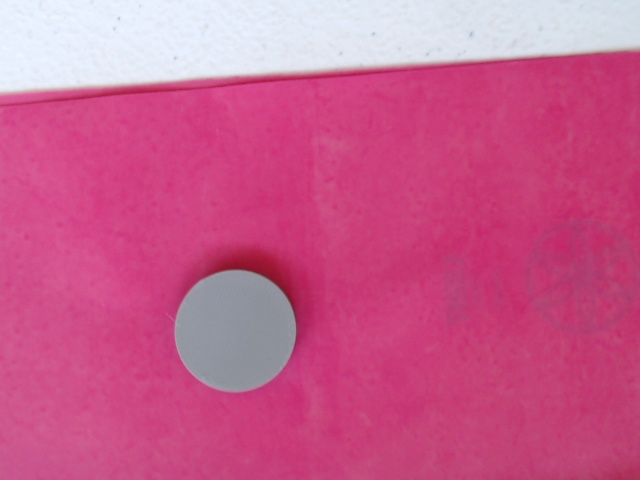NonDefective: (169, 267, 316, 396)
